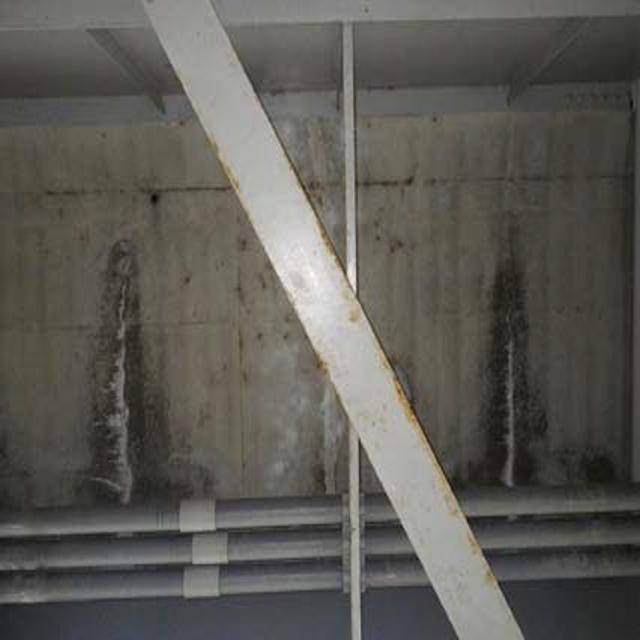freelime: (92, 307, 154, 519), (480, 331, 539, 496)
